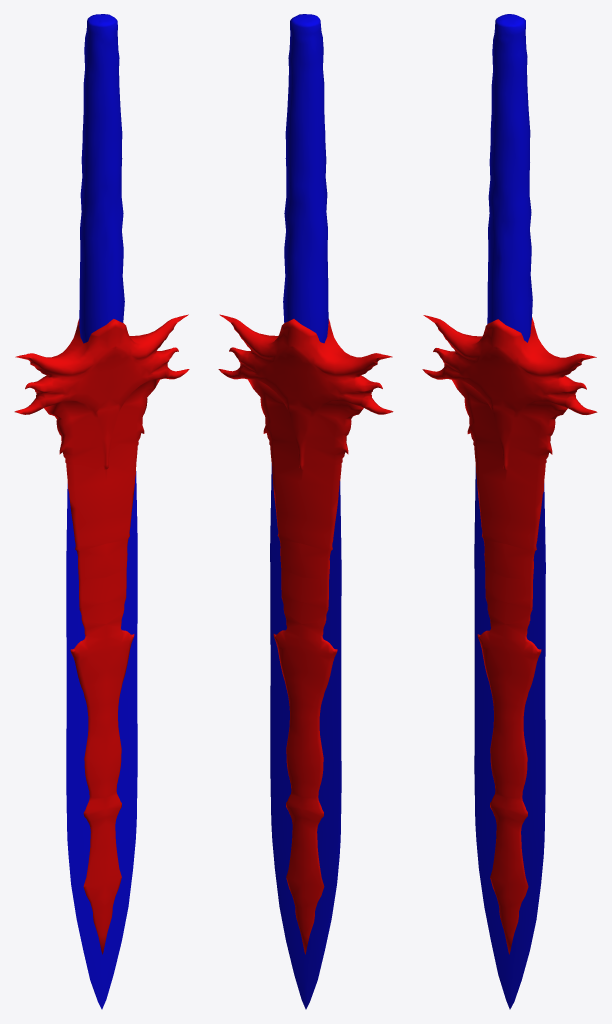
File: SM_Dagger.fbx
The picture shows the model from 3 angles, left to right: view 1: azimuth 30°, elevation 25°; view 2: azimuth 150°, elevation 25°; view 3: azimuth 330°, elevation 25°; orthographic projection.
Parts seen in each view (by area): view 1: SM_Dagger1; view 2: SM_Dagger1; view 3: SM_Dagger1.
Part boxes in pixels (box(x1,y1,x2,y2)): SM_Dagger1: box(14, 14, 189, 1009); SM_Dagger1: box(218, 14, 393, 1009); SM_Dagger1: box(422, 14, 597, 1009).
Bounding box in the file's own units: 6.35 × 34.37 × 1.71.
